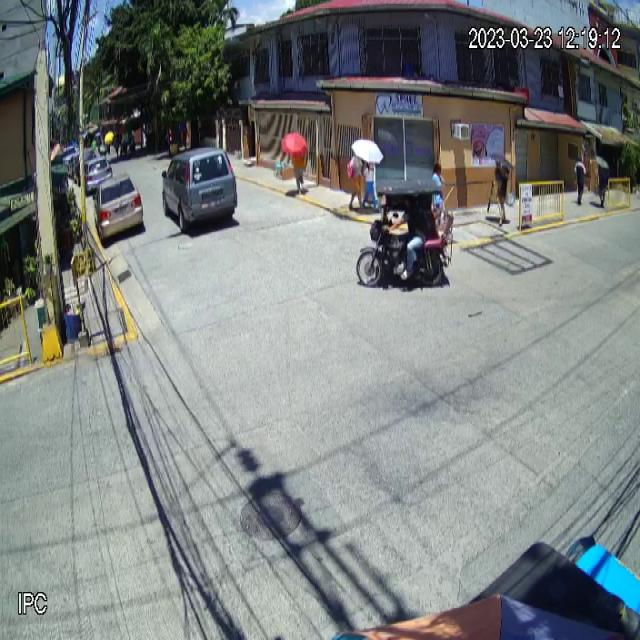Car: (161, 147, 238, 234)
Tricycle: (356, 182, 454, 290)
